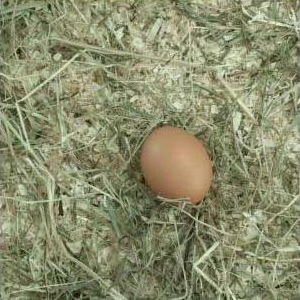egg: (141, 125, 213, 205)
